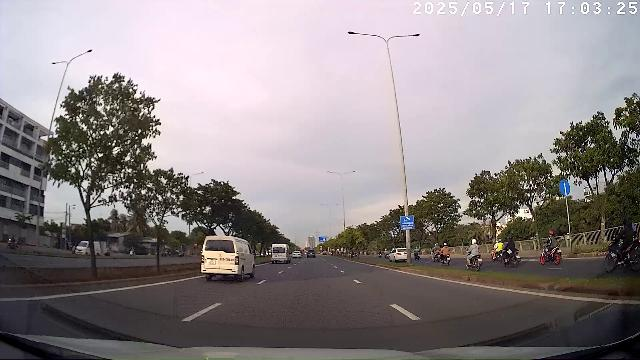301a-cac-xe-chi-duoc-di-thang: (558, 179, 571, 196)
